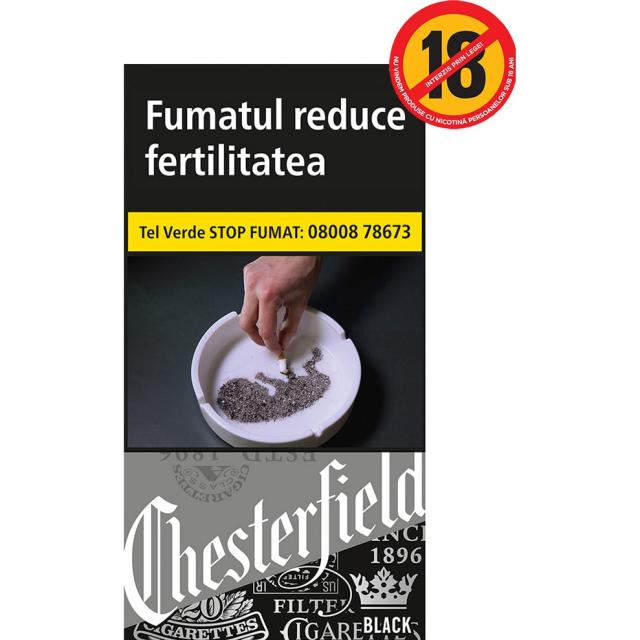chesterfield: (118, 62, 430, 640)
